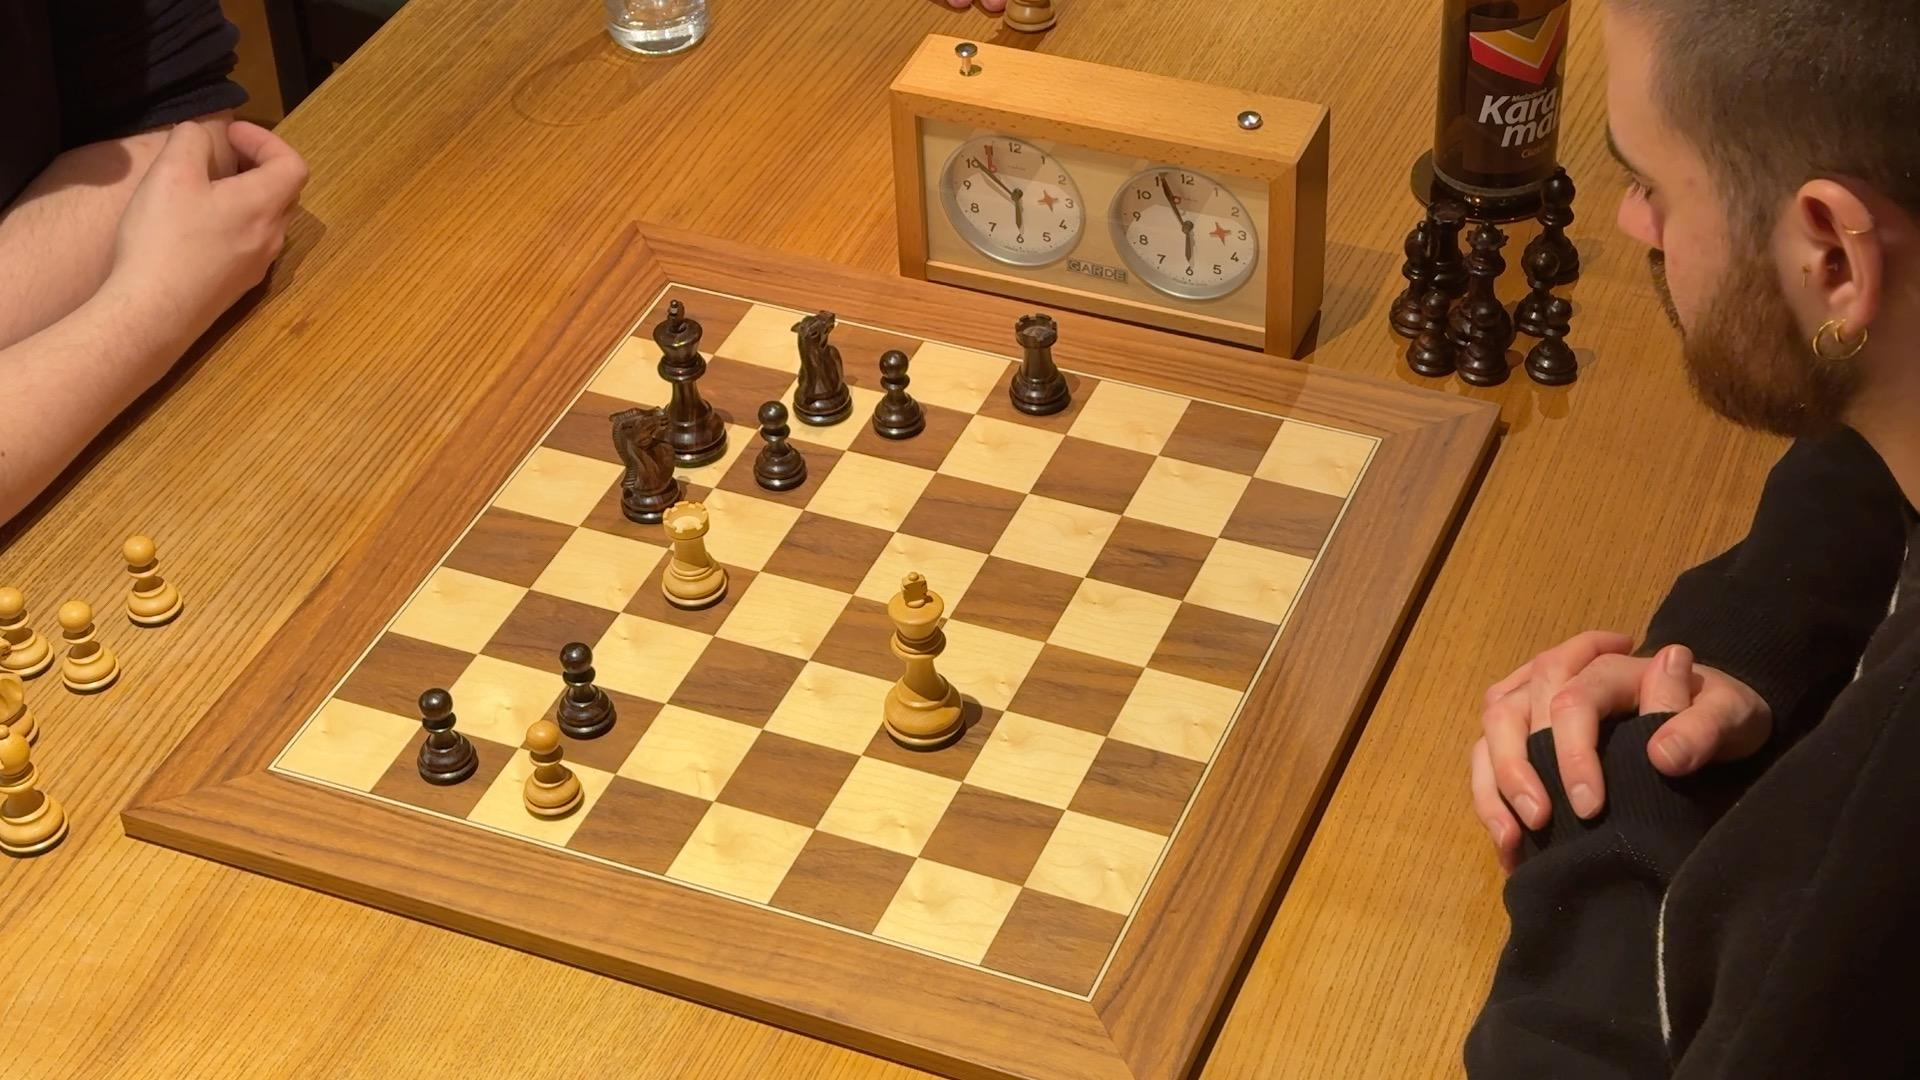Black King: (642, 291, 738, 473)
Black Knight: (599, 400, 698, 533), (781, 305, 858, 429)
Black Pawn: (741, 396, 812, 505), (409, 684, 483, 789), (858, 342, 927, 452), (549, 636, 618, 742)
Black Rook: (994, 305, 1083, 431)
White King: (876, 567, 975, 756)
White Pawn: (510, 715, 589, 829)
White Rook: (646, 491, 738, 622)
